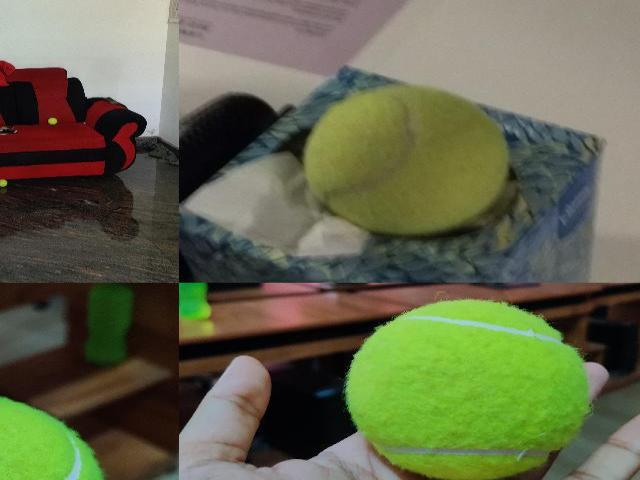tennis-ball: (345, 300, 590, 479), (301, 83, 511, 235), (0, 394, 102, 480), (0, 179, 8, 188), (47, 118, 57, 124)
